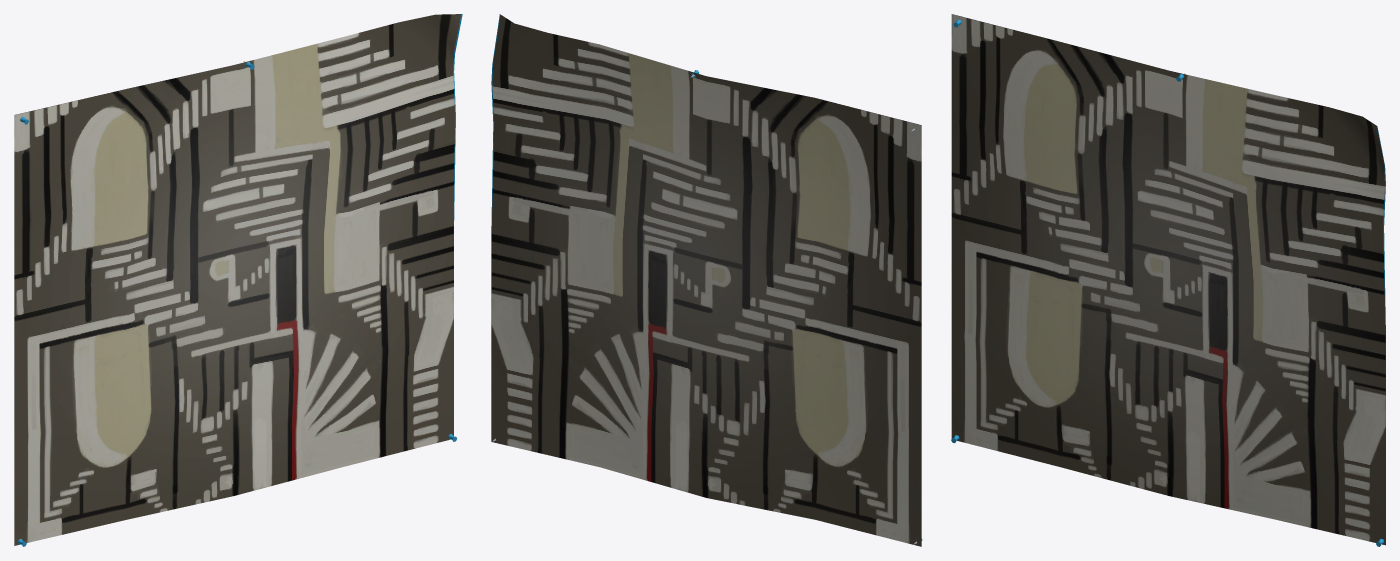
The model's file is poster_simons_room_abstract.dae.
3 views of the same model, side by side, from view 1: azimuth 30°, elevation 25°; view 2: azimuth 150°, elevation 25°; view 3: azimuth 330°, elevation 25° (orthographic). The views are drawn at different scales.
Parts seen in each view (by area): view 1: pPlane1__2_; view 2: pPlane1__2_; view 3: pPlane1__2_.
Boxes of the visible parts, x1=… form: pPlane1__2_: x1=14, y1=14, x2=462, y2=545; pPlane1__2_: x1=491, y1=14, x2=921, y2=546; pPlane1__2_: x1=951, y1=14, x2=1385, y2=545.
Size of the model in its own units: 127 by 120 by 7.11.
